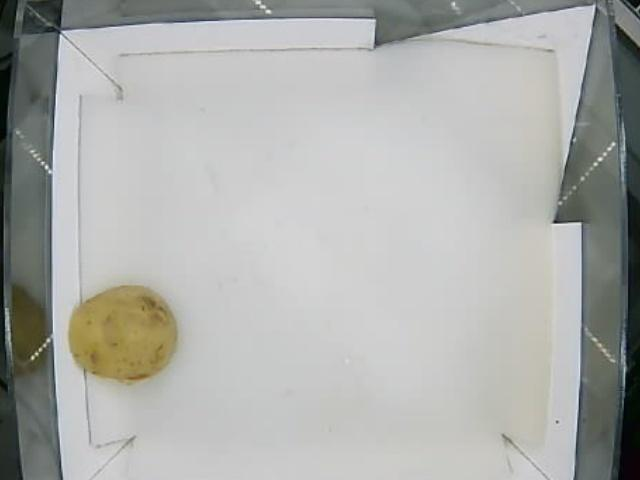Potato: (68, 284, 176, 384)
